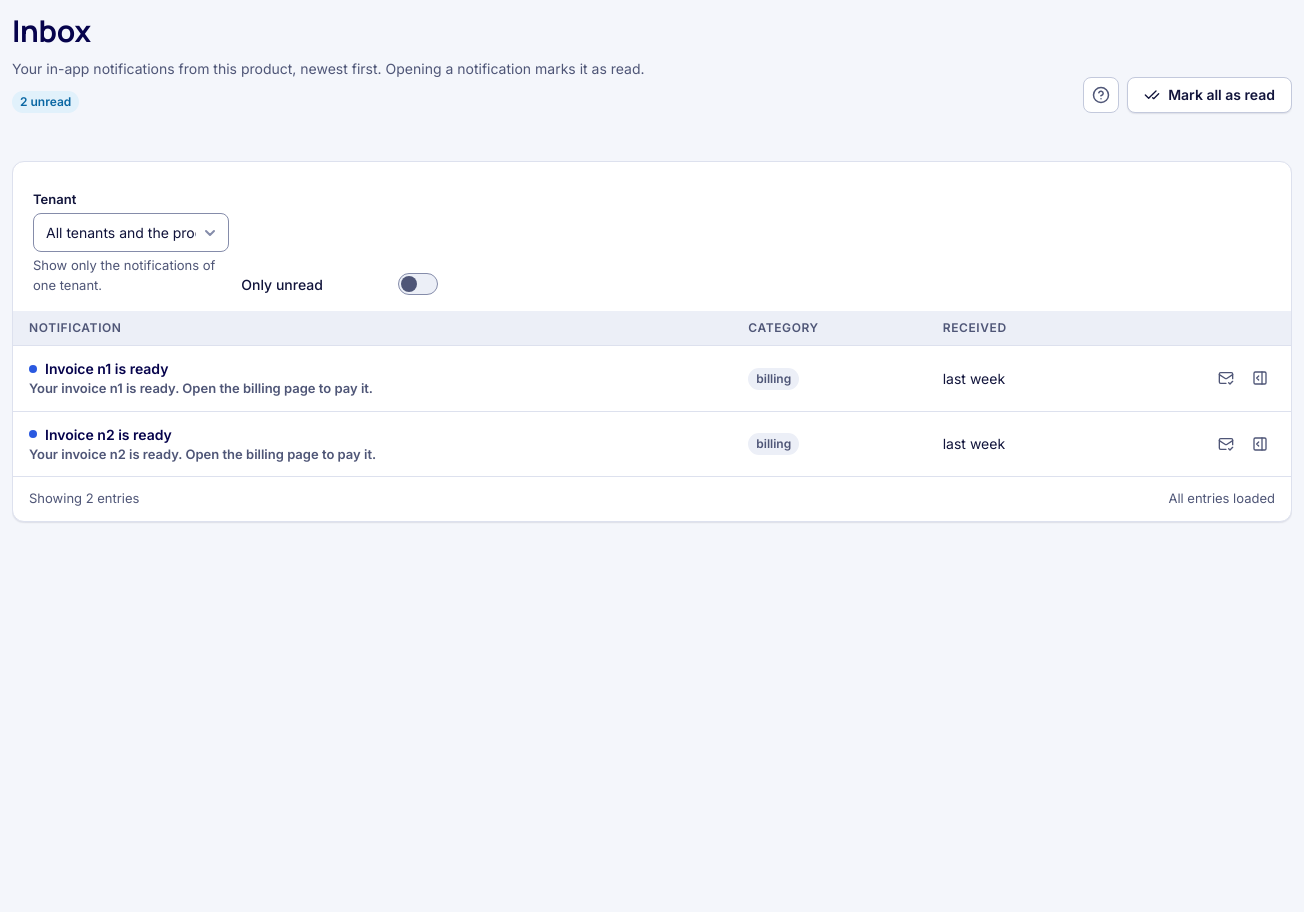
InboxPage › marks all unread notifications of the scope as read
What coordinates should you click on to do the following:
click the button "Mark all as read"
I would click on:
 (1210, 94)
Its box is [1127,76,1292,112].
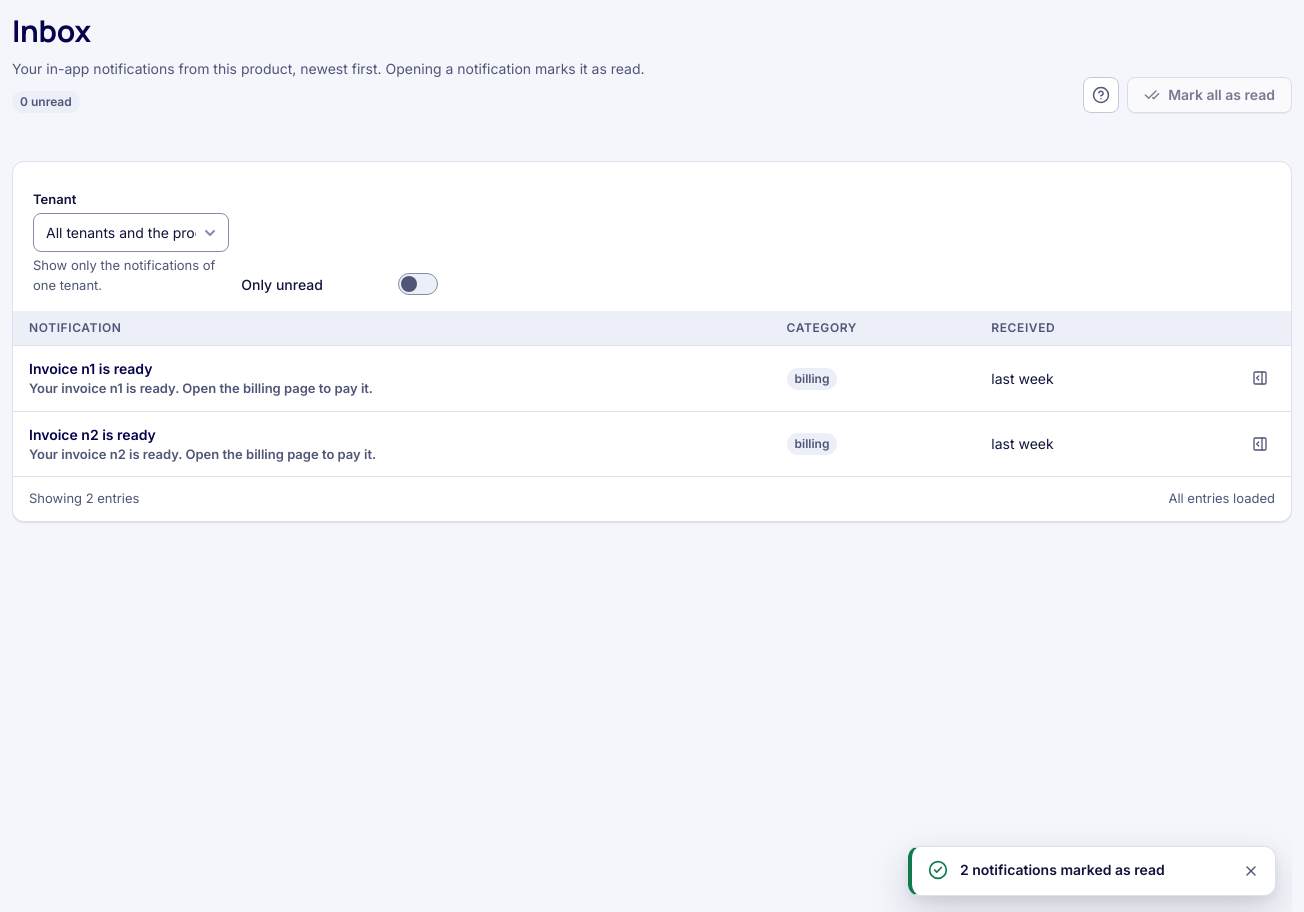
expect the text "Unread:" is not shown: met
expect the text "2 notifications marked as read" is shown: met, box [960,861,1165,878]
expect the button "Mark all as read" is disabled: met, box [1127,76,1292,112]
